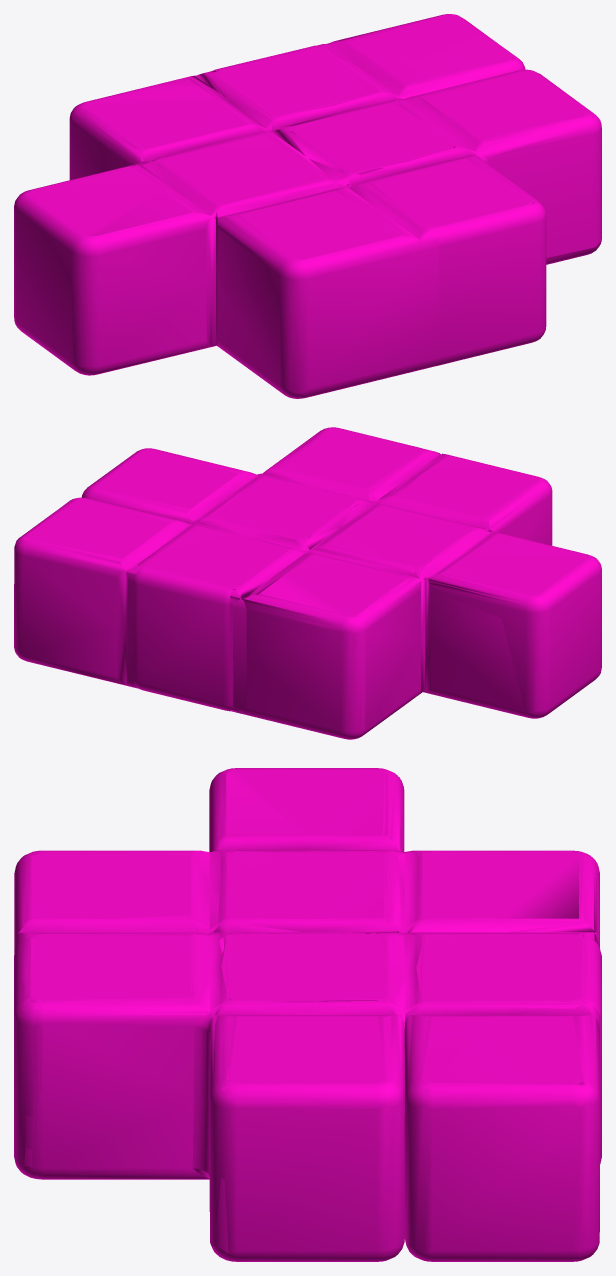
3 views of the same model, one above another, from view 1: azimuth 30°, elevation 25°; view 2: azimuth 150°, elevation 25°; view 3: azimuth 270°, elevation 25° (orthographic). The views are drawn at different scales.
Parts seen in each view (by area): view 1: 12, 6, 3, 11, 7, 8, 10, 4, 9, 5, 2; view 2: 10, 6, 3, 5, 12, 8, 9, 7, 11, 4, 2; view 3: 10, 9, 5, 3, 12, 11, 6, 8, 4, 7, 2.
Boxes of the visible parts, <box> form: 12: <box>69,49,545,398</box>; 6: <box>14,103,546,375</box>; 3: <box>161,46,459,206</box>; 11: <box>157,48,601,332</box>; 7: <box>14,54,455,375</box>; 8: <box>69,71,350,204</box>; 10: <box>157,14,525,204</box>; 4: <box>213,75,546,362</box>; 9: <box>69,47,601,254</box>; 5: <box>156,45,540,227</box>; 2: <box>214,46,453,172</box>; 10: <box>14,497,475,688</box>; 6: <box>213,427,599,718</box>; 3: <box>139,477,472,588</box>; 5: <box>134,429,421,711</box>; 12: <box>145,427,552,738</box>; 8: <box>229,499,474,739</box>; 9: <box>82,449,413,739</box>; 7: <box>176,478,601,718</box>; 11: <box>81,429,471,567</box>; 4: <box>195,427,425,588</box>; 2: <box>142,477,357,588</box>; 10: <box>216,850,599,1261</box>; 9: <box>209,850,599,1261</box>; 5: <box>33,854,601,1179</box>; 3: <box>216,852,584,1012</box>; 12: <box>14,850,599,1178</box>; 11: <box>17,850,574,1261</box>; 6: <box>14,768,404,1178</box>; 8: <box>221,850,599,944</box>; 4: <box>18,933,573,1179</box>; 7: <box>209,768,583,1002</box>; 2: <box>223,933,583,1011</box>.
Bounding box in the file's own units: 200 × 50.04 × 151.
